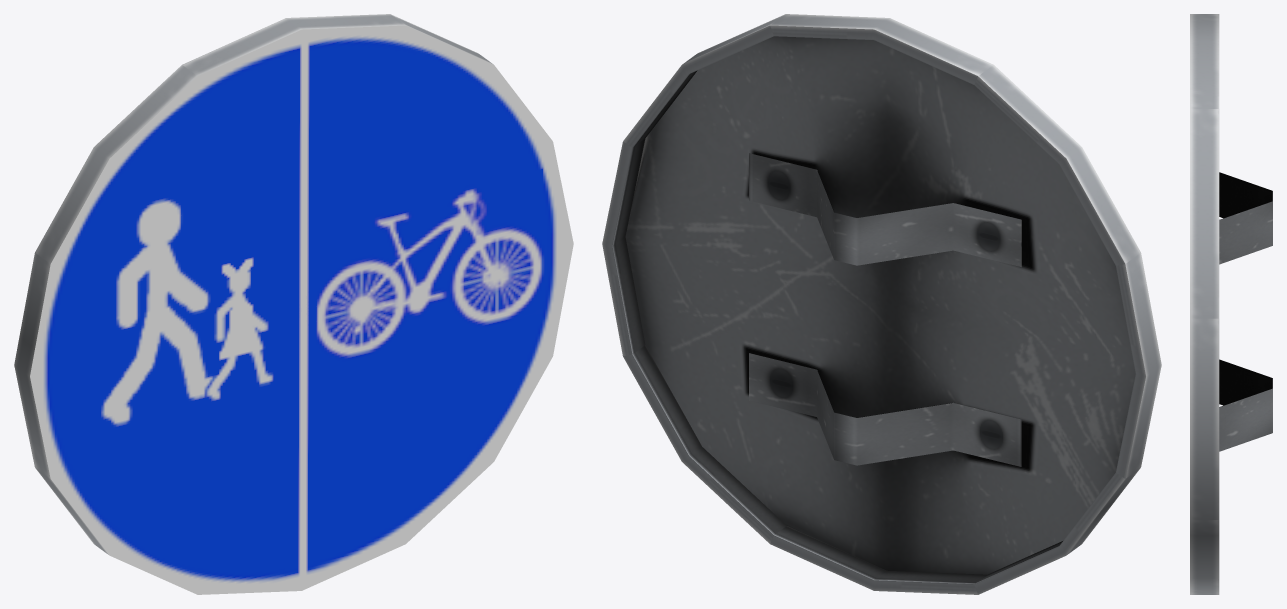
Rendered from MandatorySingle_SharedRoute.fbx.
The picture shows the model from 3 angles, left to right: view 1: azimuth 30°, elevation 25°; view 2: azimuth 150°, elevation 25°; view 3: azimuth 270°, elevation 25°; orthographic projection. The views are drawn at different scales.
Visible parts, largest first — view 1: MandatorySingle_SharedRoute_LOD0; view 2: MandatorySingle_SharedRoute_LOD0; view 3: MandatorySingle_SharedRoute_LOD0.
Part boxes in pixels (x1,y1,x2,y2): MandatorySingle_SharedRoute_LOD0: (14,14,573,594); MandatorySingle_SharedRoute_LOD0: (602,14,1161,594); MandatorySingle_SharedRoute_LOD0: (1190,14,1272,594).
Size of what is drawn, in the model's own units: 0.6245 by 0.616 by 0.088.
